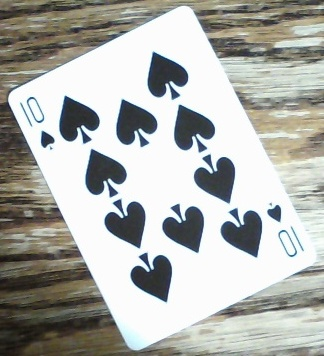card: (5, 5, 319, 351)
